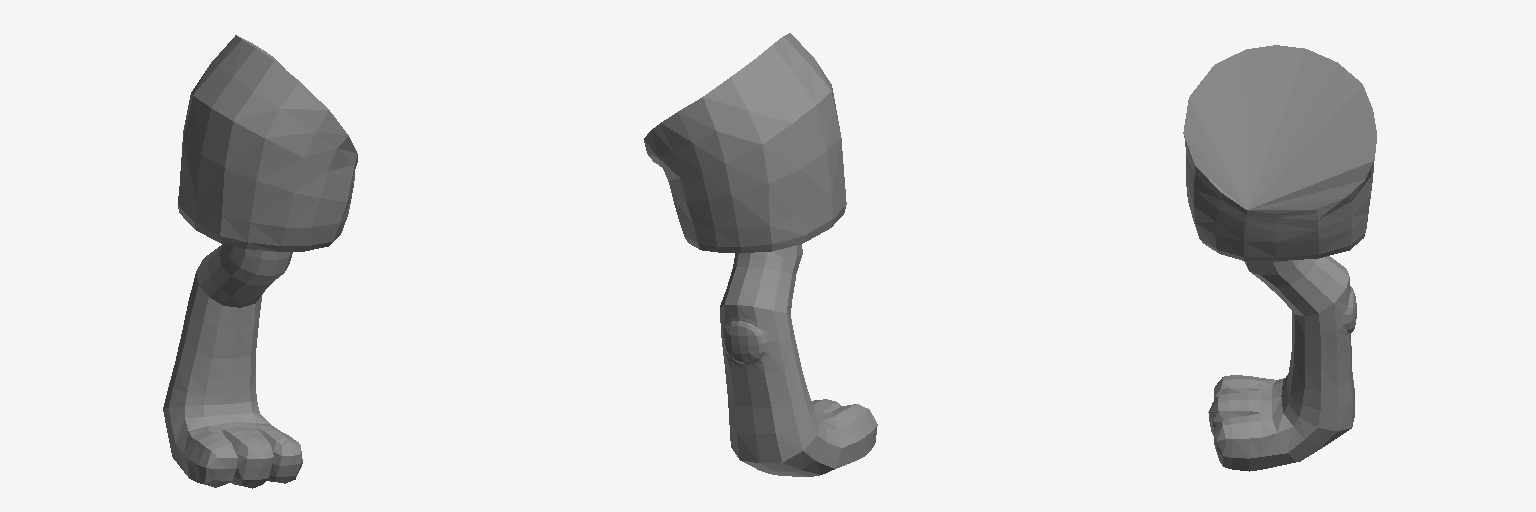
The model's file is LucarioPierDer.obj.
The picture shows the model from 3 angles: view 1: azimuth 30°, elevation 25°; view 2: azimuth 150°, elevation 25°; view 3: azimuth 270°, elevation 25°; orthographic projection.
Visible parts, largest first — view 1: PiernaDer001; view 2: PiernaDer001; view 3: PiernaDer001.
Part boxes in pixels (x1,y1,x2,y2): PiernaDer001: (163, 35, 357, 488); PiernaDer001: (644, 33, 877, 476); PiernaDer001: (1183, 45, 1376, 471).
Size of the model in its own units: 1.47 by 3.6 by 1.5.